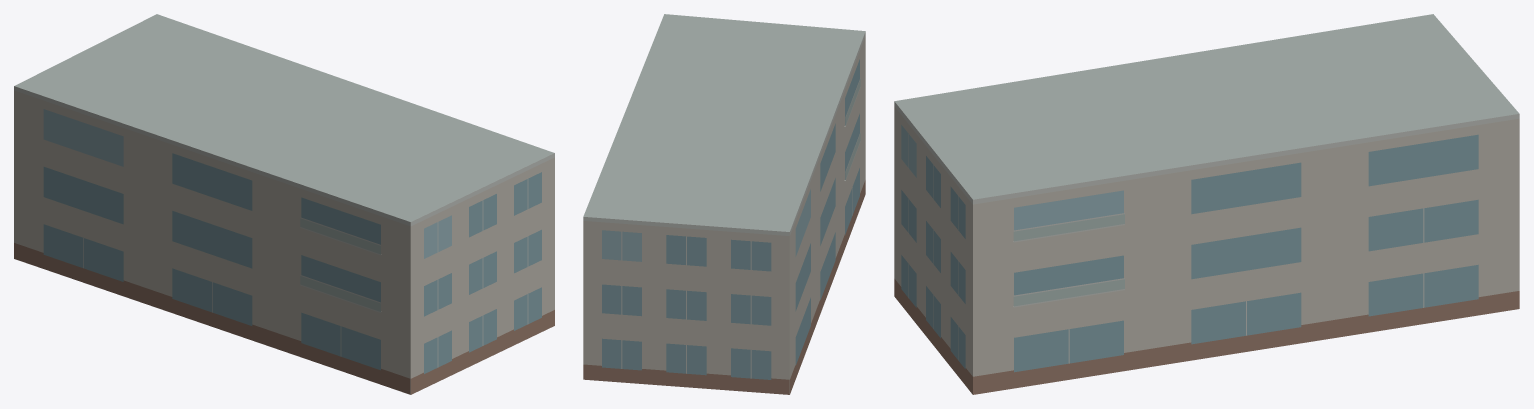
The model's file is survey-upis-32847400.glb.
3 views of the same model, side by side, from view 1: azimuth 30°, elevation 25°; view 2: azimuth 150°, elevation 25°; view 3: azimuth 270°, elevation 25° (orthographic). The views are drawn at different scales.
Visible parts, largest first — view 1: survey-upis-32847400.tmp; view 2: survey-upis-32847400.tmp; view 3: survey-upis-32847400.tmp.
Part boxes in pixels (x1,y1,x2,y2): survey-upis-32847400.tmp: [14, 14, 554, 394]; survey-upis-32847400.tmp: [583, 14, 865, 394]; survey-upis-32847400.tmp: [894, 14, 1519, 394].
Bounding box in the file's own units: 20.01 × 9.8 × 28.47.
